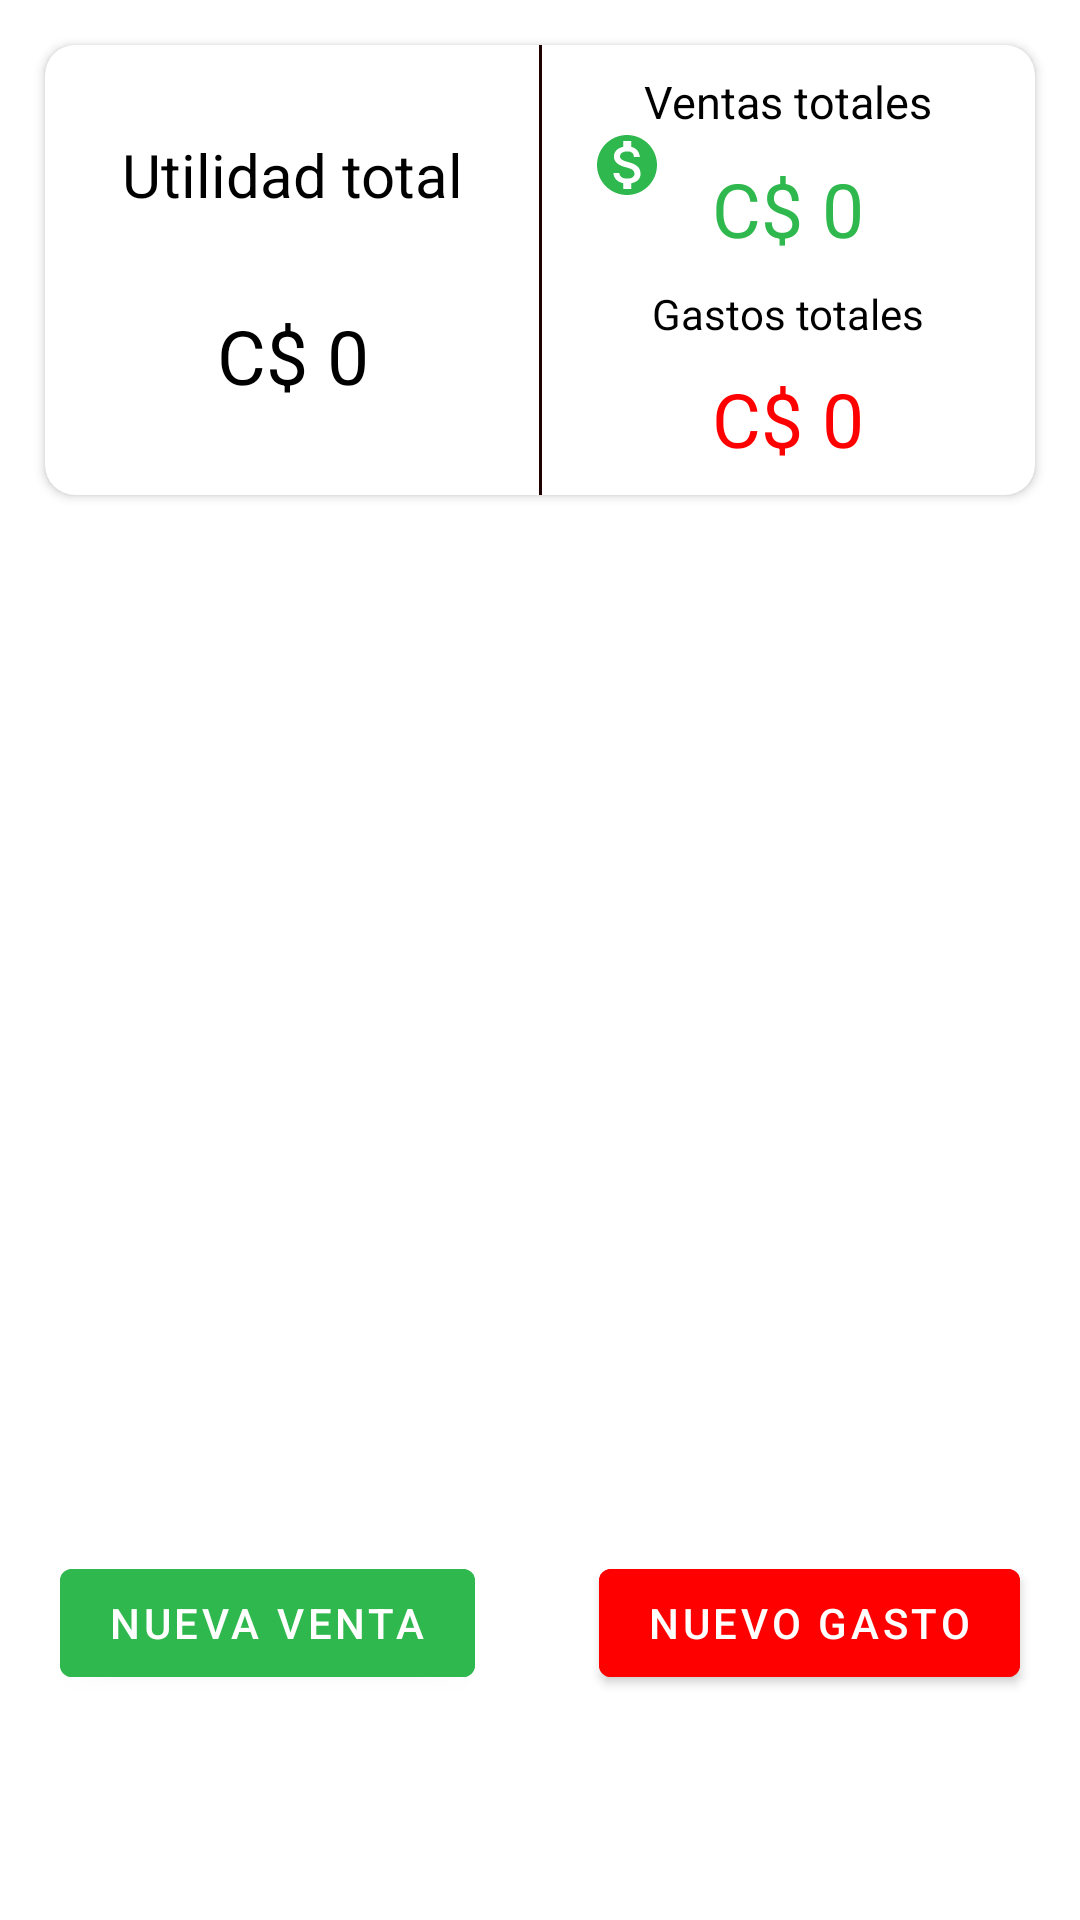

Where icons sit on this 1080x1920 app screen, as (x1, y1, x2, y2):
money: (597, 135, 657, 195)
